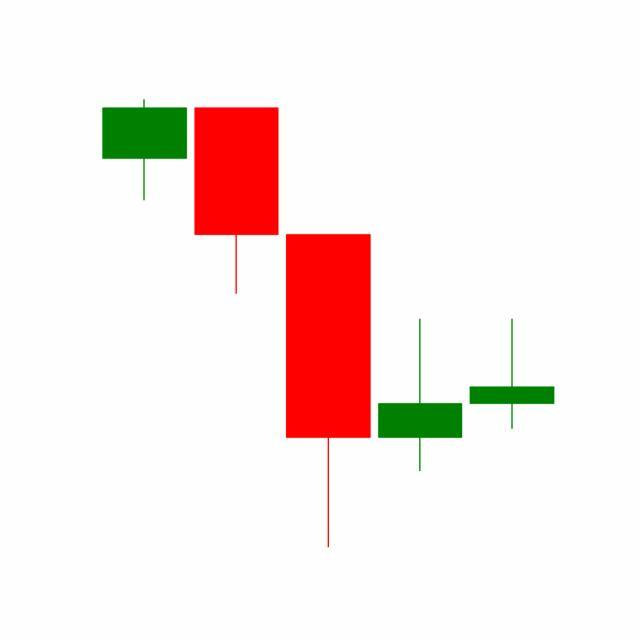Spinning Top: (466, 318, 559, 431)
